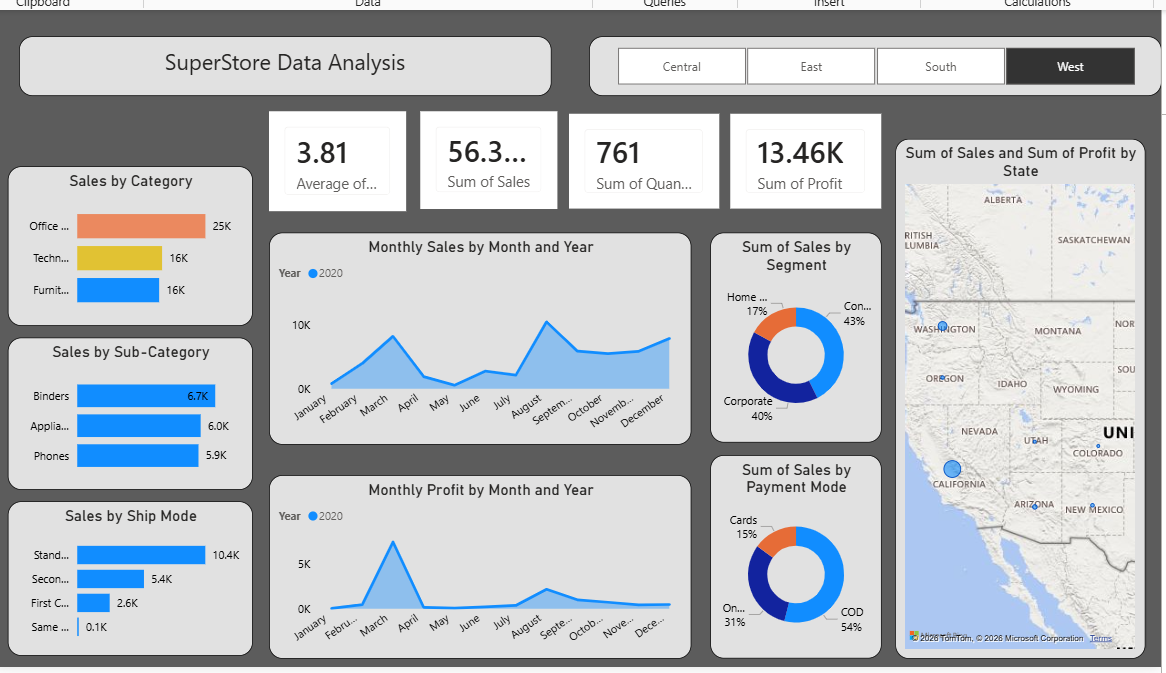

What the dashboard file says about the page in this screenshot:
{"tool":"powerbi","page":{"name":"Page 1","canvas":[1280,720],"ordinal":0},"visuals":[{"type":"clusteredBarChart","title":" Sales by Category","fields":{"Category":["SuperStore-Sales.Category"],"Y":["Sum(SuperStore-Sales.Sales)"]},"box":[15.1,171.3,268.7,175.5],"z":0},{"type":"clusteredBarChart","title":" Sales by Sub-Category","fields":{"Category":["SuperStore-Sales.Sub-Category"],"Y":["Sum(SuperStore-Sales.Sales)"]},"box":[15.1,359.1,268.7,167.2],"z":1000},{"type":"clusteredBarChart","title":" Sales by Ship Mode","fields":{"Category":["SuperStore-Sales.Ship Mode"],"Y":["Sum(SuperStore-Sales.Sales)"]},"box":[15.1,538.7,268.7,170],"z":2000},{"type":"stackedAreaChart","title":"Monthly Sales by Month and Year","fields":{"Y":["Sum(SuperStore-Sales.Sales)"],"Series":["SuperStore-Sales.Order Date.Variation.Date Hierarchy.Year"],"Category":["SuperStore-Sales.Order Date.Variation.Date Hierarchy.Month"]},"box":[301.6,244,463.3,233],"z":3000},{"type":"stackedAreaChart","title":"Monthly Profit by Month and Year","fields":{"Series":["SuperStore-Sales.Order Date.Variation.Date Hierarchy.Year"],"Category":["SuperStore-Sales.Order Date.Variation.Date Hierarchy.Month"],"Y":["Sum(SuperStore-Sales.Profit)"]},"box":[301.6,509.9,463.3,201.5],"z":4000},{"type":"map","fields":{"Category":["SuperStore-Sales.State"],"Size":["Sum(SuperStore-Sales.Sales)"]},"box":[988.3,141.2,274.1,570.2],"z":5000},{"type":"donutChart","fields":{"Category":["SuperStore-Sales.Segment"],"Y":["Sum(SuperStore-Sales.Sales)"]},"box":[785.4,244,187.8,230.3],"z":6000},{"type":"donutChart","fields":{"Category":["SuperStore-Sales.Payment Mode"],"Y":["Sum(SuperStore-Sales.Sales)"]},"box":[785.4,488,187.8,223.4],"z":7000},{"type":"slicer","fields":{"Values":["SuperStore-Sales.Region"]},"box":[652.5,28.8,627.8,65.8],"z":8000},{"type":"textbox","box":[27.4,28.8,583.9,65.8],"z":9000},{"type":"cardVisual","fields":{"Data":["Sum(SuperStore-Sales.Sales)"]},"box":[467.4,111,150.8,106.9],"z":10000},{"type":"cardVisual","fields":{"Data":["Sum(SuperStore-Sales.Quantity)"]},"box":[630.5,113.8,164.5,104.2],"z":11000},{"type":"cardVisual","fields":{"Data":["Avg(SuperStore-Sales.Average Delievery)"]},"box":[301.6,111,150.8,109.7],"z":12000},{"type":"cardVisual","fields":{"Data":["Sum(SuperStore-Sales.Profit)"]},"box":[807.4,113.8,165.9,104.2],"z":13000}]}

Visuals, with their boxes in screenshot pixels (x1, y1, x2, y2):
" Sales by Category" clusteredBarChart: 0/163/249/326
" Sales by Sub-Category" clusteredBarChart: 0/337/249/493
" Sales by Ship Mode" clusteredBarChart: 0/505/249/663
"Monthly Sales by Month and Year" stackedAreaChart: 266/230/697/447
"Monthly Profit by Month and Year" stackedAreaChart: 266/478/697/666
map - SuperStore-Sales.State x Sum(SuperStore-Sales.Sales): 905/135/1161/666
donutChart - SuperStore-Sales.Segment x Sum(SuperStore-Sales.Sales): 716/230/891/445
donutChart - SuperStore-Sales.Payment Mode x Sum(SuperStore-Sales.Sales): 716/458/891/666
slicer - SuperStore-Sales.Region: 593/30/1165/91
textbox: 10/30/554/91
cardVisual - Sum(SuperStore-Sales.Sales): 420/106/561/206
cardVisual - Sum(SuperStore-Sales.Quantity): 572/109/725/206
cardVisual - Avg(SuperStore-Sales.Average Delievery): 266/106/406/209
cardVisual - Sum(SuperStore-Sales.Profit): 737/109/891/206
